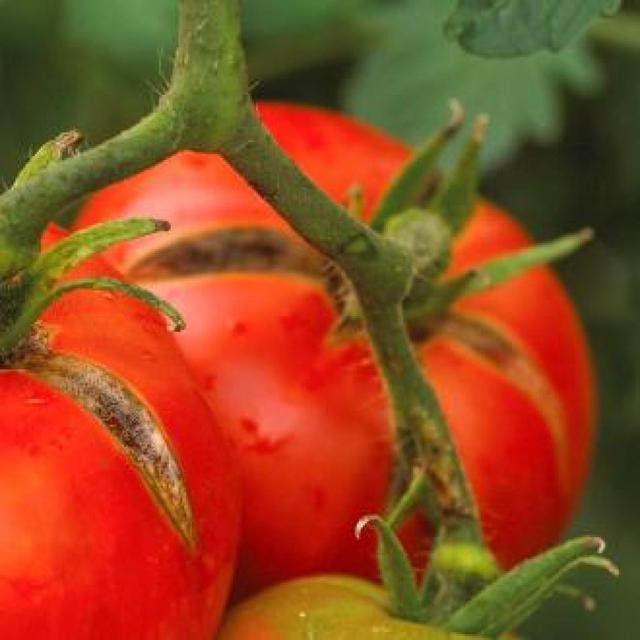Cracking Fruit: (0, 211, 142, 390)
